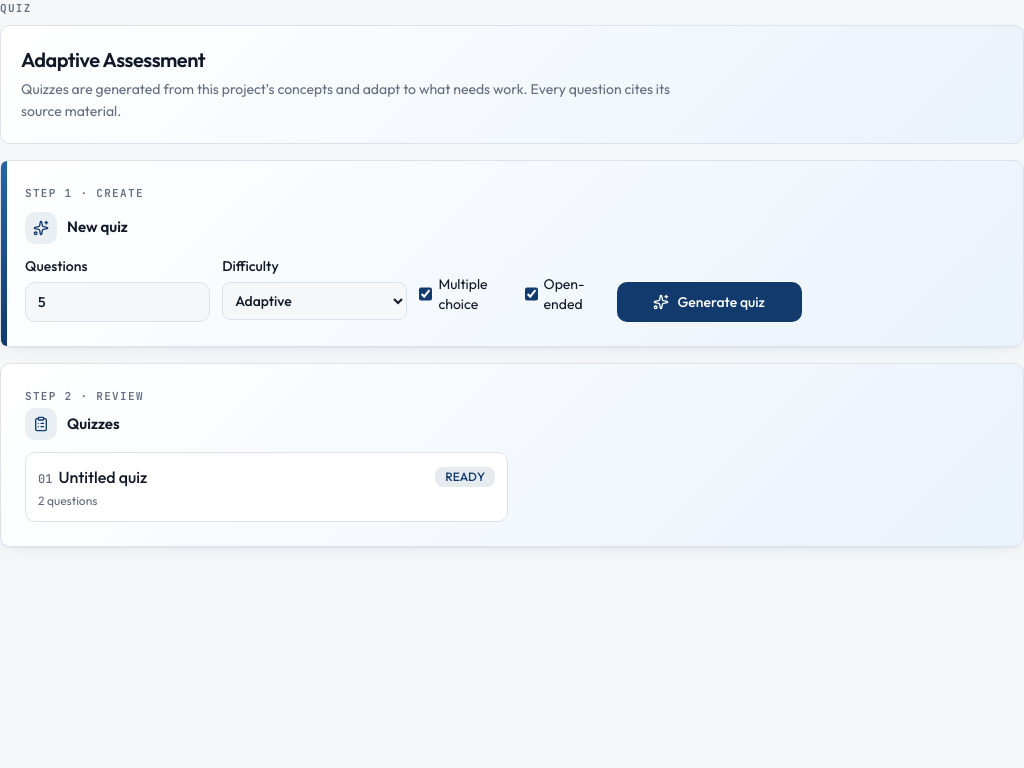
Scenario: QuizSection › answers drafts locally and submits everything with one Submit Quiz
Click the button "Generate quiz".
click(709, 302)  # box [617,282,802,322]
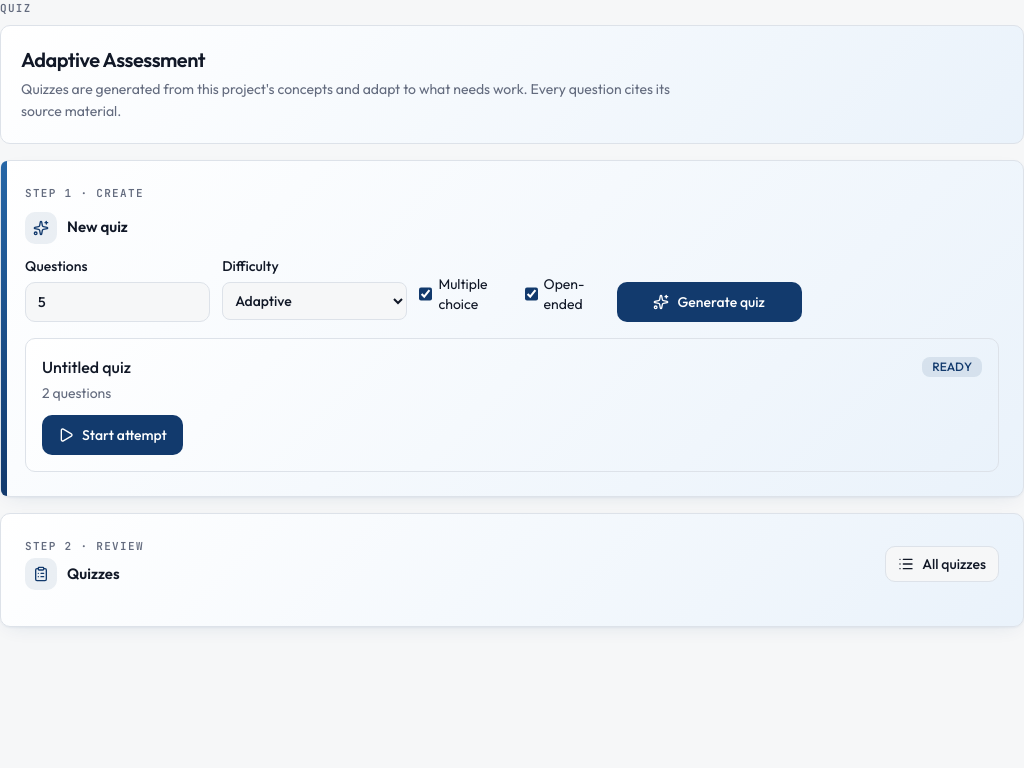
Expected: the button "Start attempt" is shown
Click the button "Start attempt".
click(112, 434)  # box [42,414,183,454]
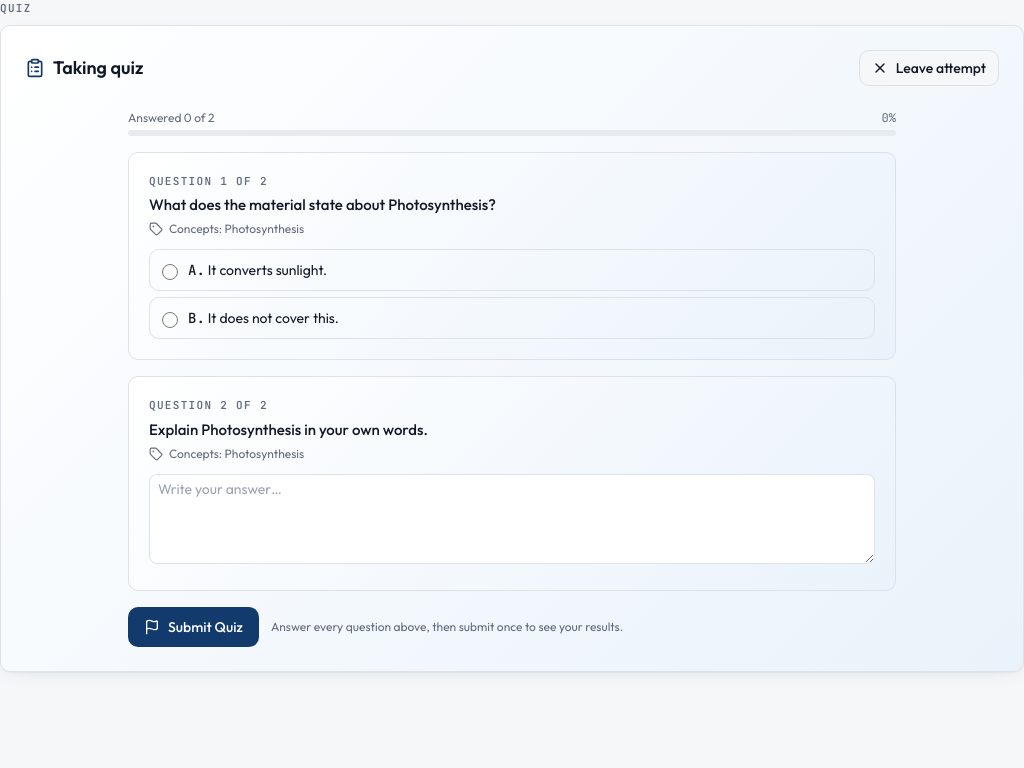
Expected: the text "Answered 0 of 2" is shown, [128,110,215,126]
Click the text "It does not cover this.".
click(263, 318)  # box [188,308,339,328]
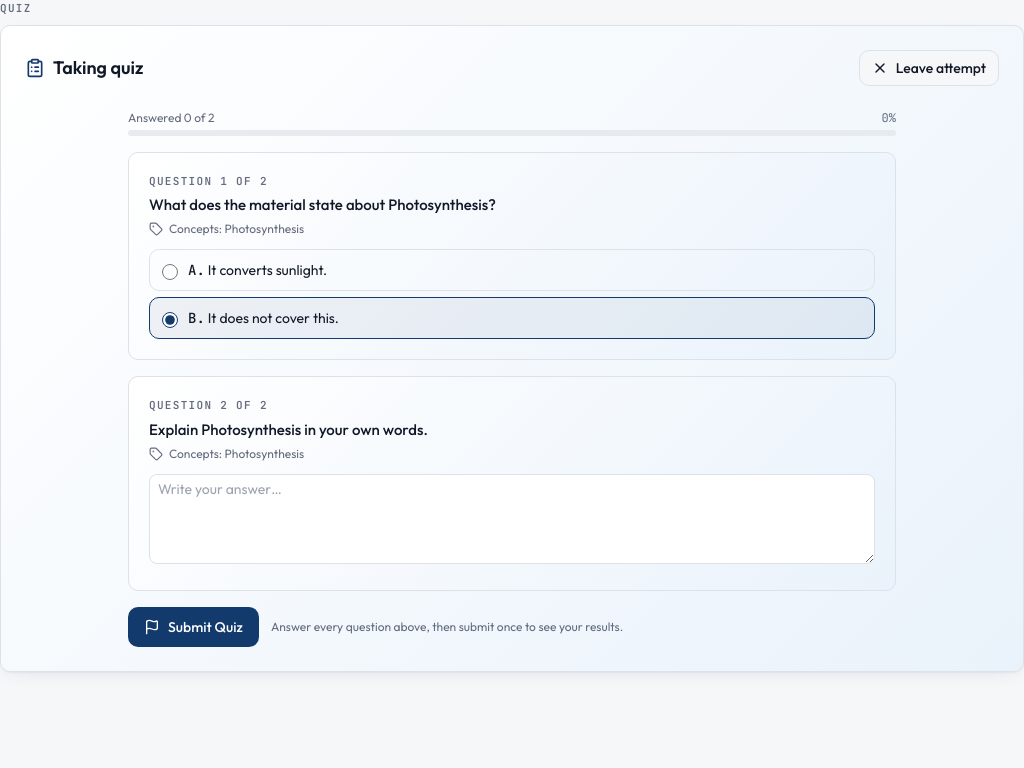
Type "Mitosis overview." into the text box named "Answer for question 2".
click(512, 519); type("Mitosis overview.")  # box [149,474,875,564]
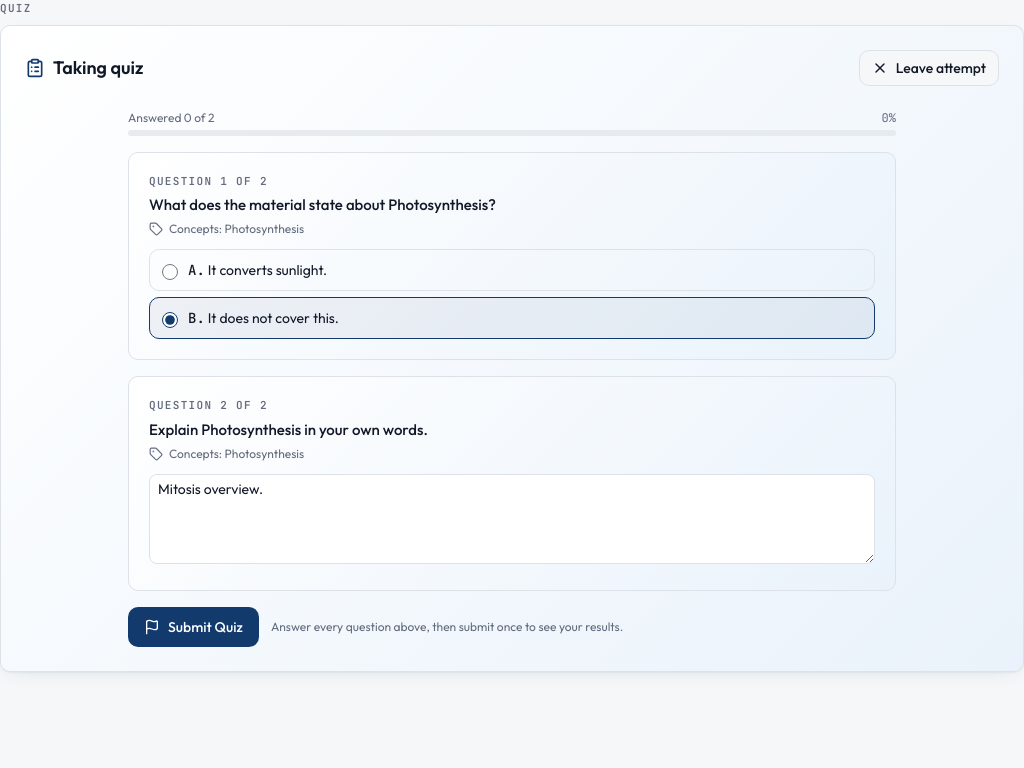
Click the button "Submit Quiz".
click(193, 627)  # box [128,607,259,647]
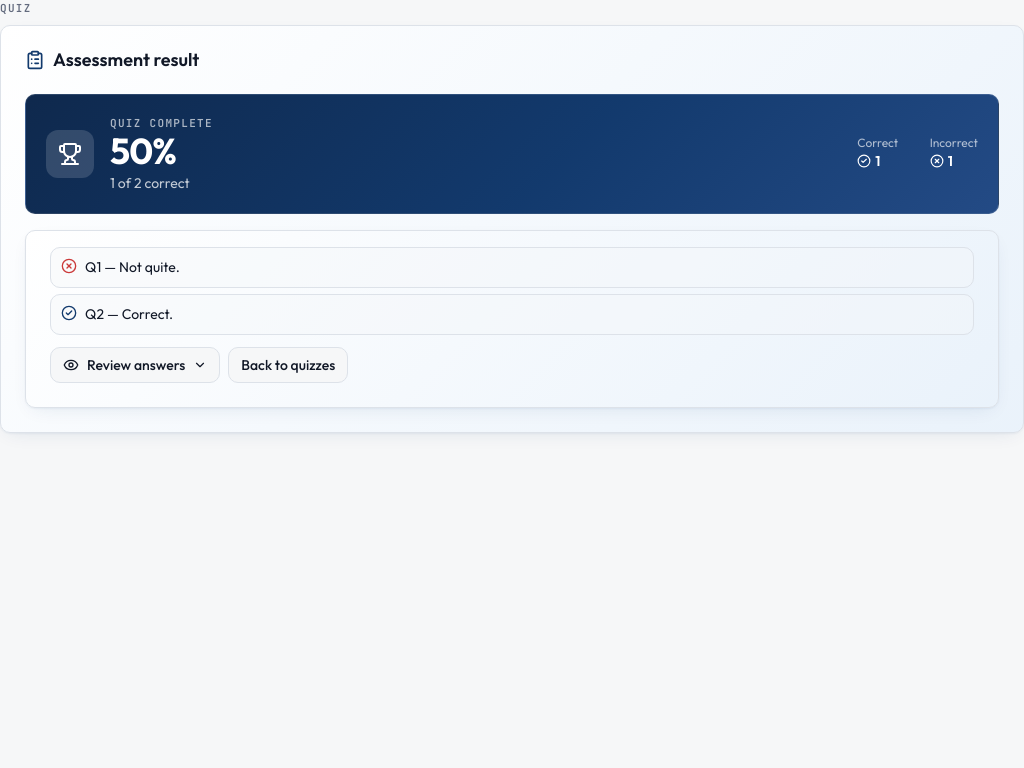
Expected: the heading "Assessment result" is shown, [25,48,199,70]
Expected: the text "50%" is shown, [110,128,176,173]
Expected: the text "1 of 2 correct" is shown, [110,174,190,192]
